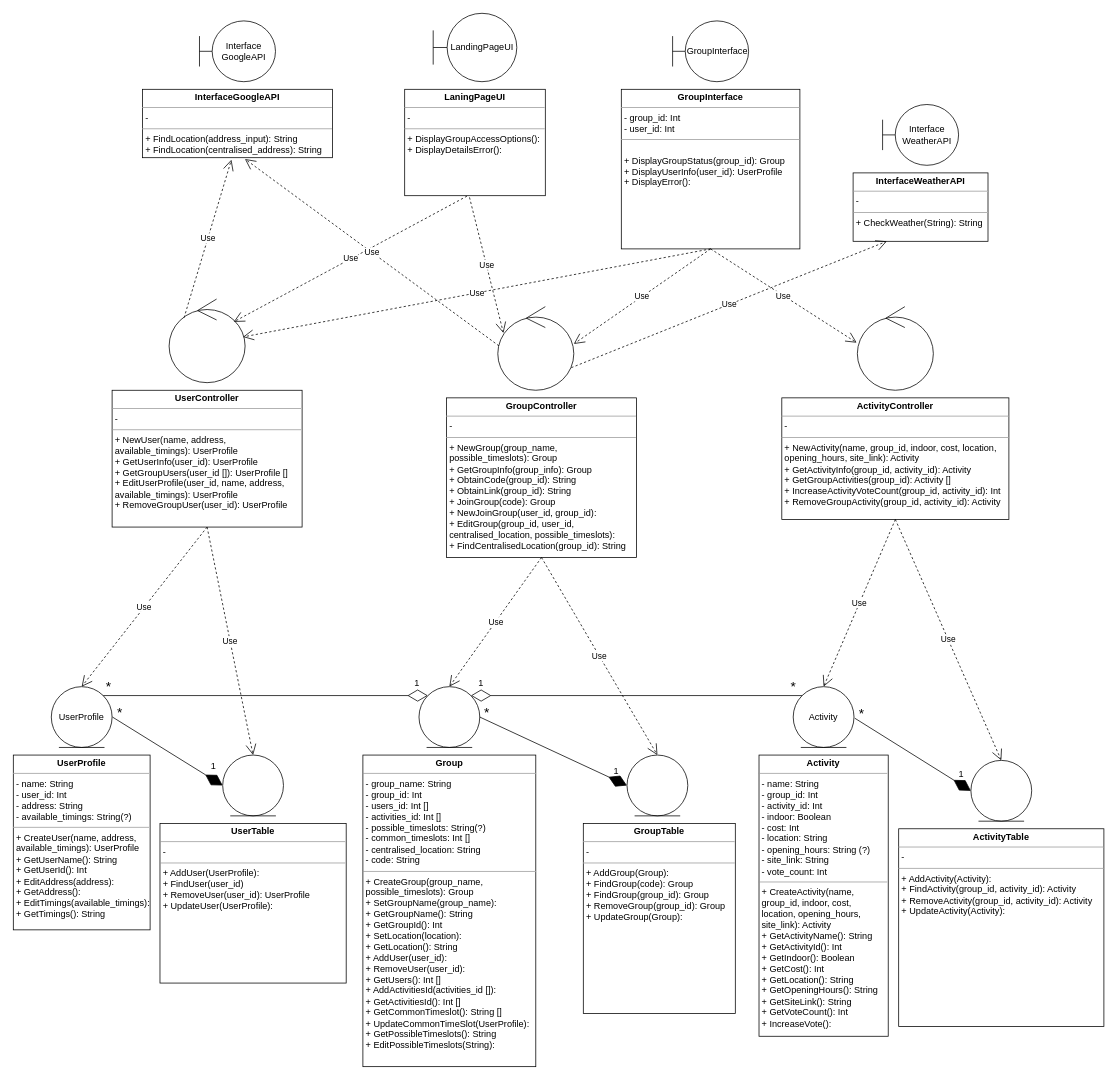
The diagram is 1117 pixels wide and 1080 high, and some of its shapes have lost their labels. The shapes that lost their labels are listed below. From the top down, each one's centre as x and y in pixels, then its label:
the point at 206,340: UserController
the point at 535,348: GroupController
the point at 895,348: ActivityController
the point at 449,716: Group
the point at 252,785: UserTable
the point at 657,785: GroupTable
the point at 1001,790: ActivityTable
